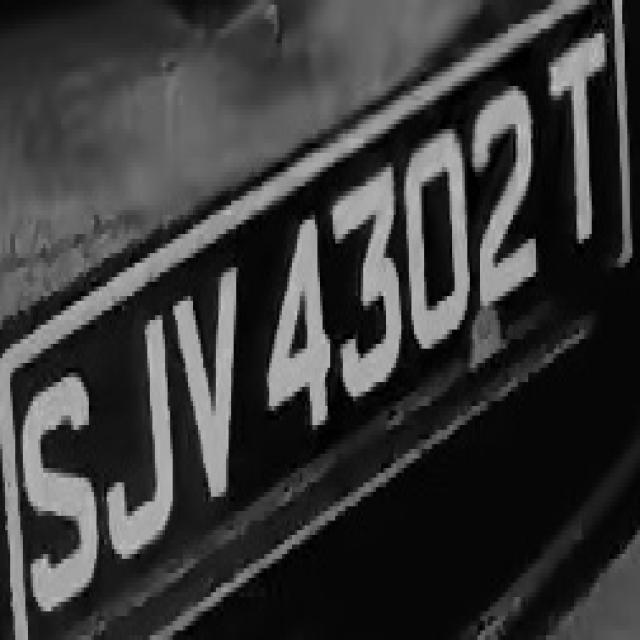0: (399, 114, 472, 353)
2: (465, 86, 546, 315)
3: (328, 167, 403, 406)
4: (252, 215, 341, 458)
J: (89, 296, 178, 583)
S: (13, 354, 99, 612)
T: (544, 19, 622, 258)
V: (162, 248, 246, 516)
